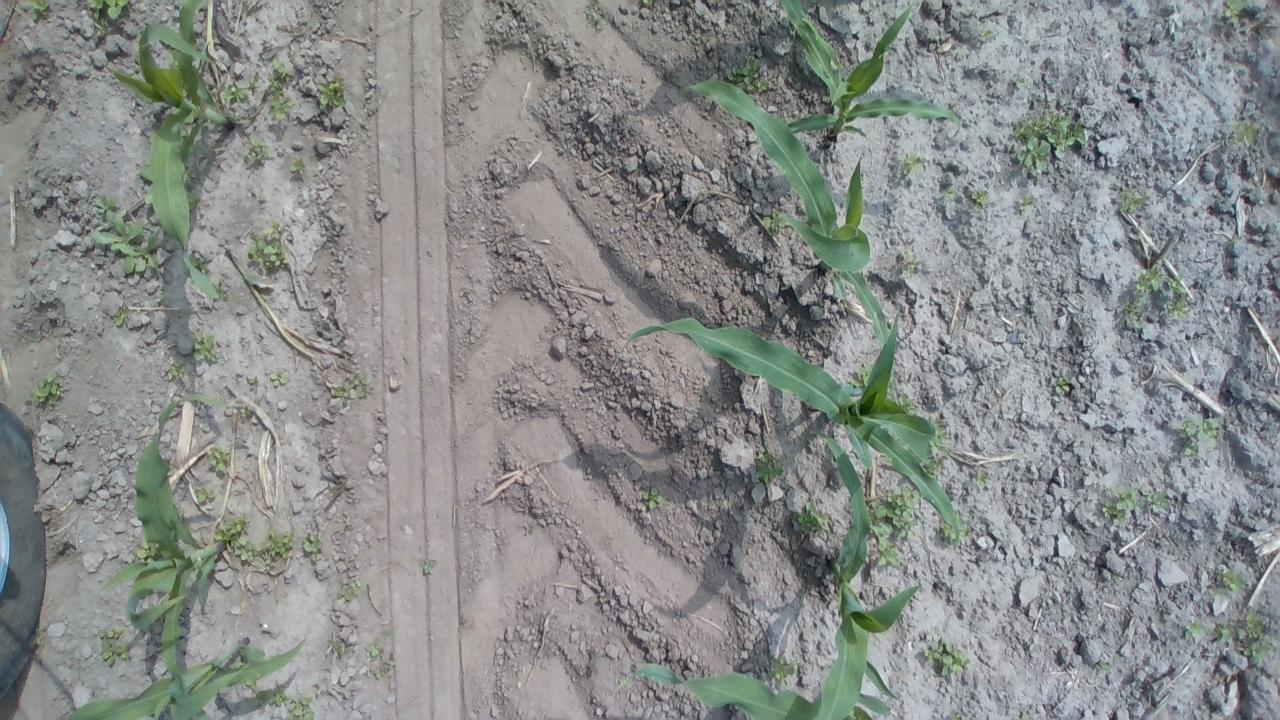Maize: (611, 304, 961, 552), (679, 75, 894, 353), (90, 0, 234, 307), (98, 390, 225, 706), (804, 426, 920, 720), (779, 0, 966, 136), (64, 633, 310, 720), (612, 664, 892, 720)
Weeds: (90, 193, 166, 273), (1011, 110, 1088, 170), (871, 486, 920, 568), (244, 220, 290, 270), (213, 512, 255, 562), (266, 58, 298, 122), (922, 638, 972, 678), (1176, 415, 1222, 456), (792, 496, 834, 540), (1242, 612, 1276, 661), (726, 55, 769, 93), (253, 528, 296, 566), (86, 0, 130, 36), (1102, 486, 1140, 526), (30, 373, 64, 416), (316, 70, 352, 110), (98, 626, 130, 666), (334, 366, 370, 401), (223, 72, 260, 106), (754, 446, 786, 484), (1166, 272, 1189, 321), (366, 638, 394, 678), (769, 654, 798, 690), (760, 207, 791, 237), (192, 334, 222, 364), (1133, 266, 1162, 297), (1212, 570, 1244, 598), (1116, 186, 1144, 216), (931, 421, 951, 463), (248, 683, 284, 706), (898, 151, 928, 177), (1230, 121, 1258, 148), (206, 445, 232, 472), (246, 135, 272, 162), (286, 695, 314, 720), (334, 578, 362, 601), (640, 486, 664, 512), (942, 524, 971, 545), (1148, 489, 1174, 512), (1224, 0, 1250, 23), (24, 0, 51, 22), (899, 246, 919, 275), (896, 392, 919, 417), (136, 537, 158, 563), (1122, 300, 1142, 328), (1184, 616, 1205, 642), (584, 11, 608, 32), (850, 364, 870, 388), (166, 356, 186, 380), (972, 189, 992, 212), (1215, 622, 1237, 642), (303, 532, 323, 554), (184, 188, 202, 212), (194, 486, 217, 504), (114, 304, 130, 328), (136, 160, 154, 181), (287, 156, 305, 176), (30, 628, 48, 648), (327, 638, 347, 656), (210, 277, 227, 297), (1054, 375, 1072, 393), (269, 368, 288, 385), (976, 468, 991, 488), (976, 26, 993, 43), (1018, 194, 1034, 212), (420, 558, 438, 574), (154, 288, 168, 306), (942, 184, 958, 199), (194, 256, 207, 274), (1097, 661, 1112, 673), (238, 406, 254, 417), (184, 168, 192, 184), (1014, 79, 1026, 89), (951, 713, 964, 720), (1232, 234, 1241, 243), (234, 661, 243, 669), (642, 0, 652, 7)
